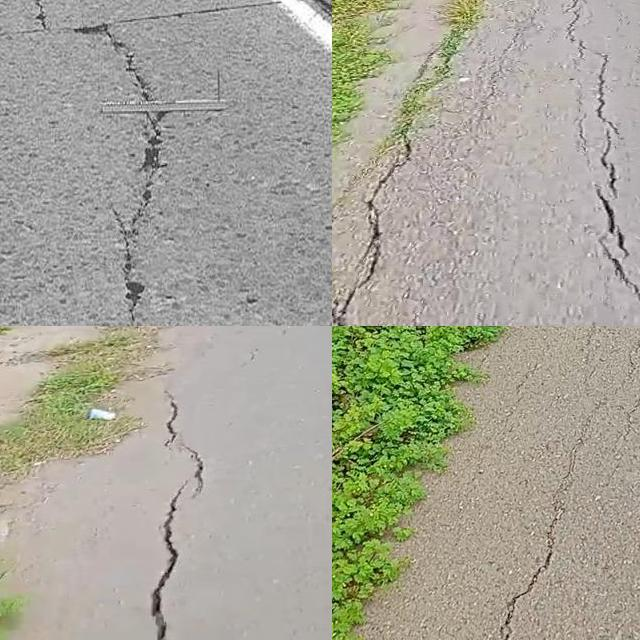Memanjang: (22, 0, 184, 326), (562, 0, 640, 326), (470, 459, 595, 640), (140, 382, 215, 640)
